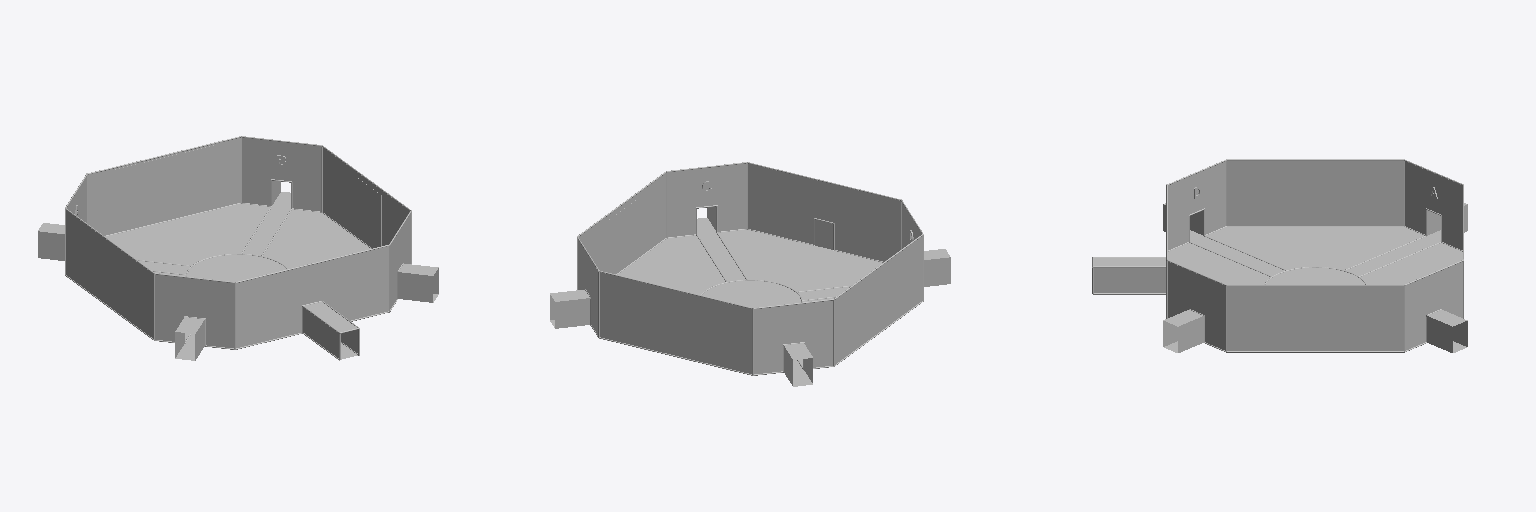
Rendered from NewPlatform3.obj.
3 renders of one model, left to right at view 1: azimuth 30°, elevation 25°; view 2: azimuth 150°, elevation 25°; view 3: azimuth 270°, elevation 25°, orthographic.
Parts seen in each view (by area): view 1: Plane.007, Plane.014, Plane.015, Plane.003, Plane.021, Plane.018, Plane.006, Plane.004, Plane.027, Plane.022, Plane.011; view 2: Plane.007, Plane.014, Plane.006, Plane.003, Plane.011, Plane.027, Plane.004, Plane.018, Plane.015, Plane.022, Plane.021; view 3: Plane.007, Plane.004, Plane.003, Plane.027, Plane.018, Plane.011, Plane.021, Plane.023, Plane.014.
Part boxes in pixels (left/top/right/bottom): Plane.007: left=106, top=204, right=370, bottom=344; Plane.014: left=236, top=246, right=388, bottom=359; Plane.015: left=112, top=145, right=215, bottom=231; Plane.003: left=66, top=210, right=153, bottom=338; Plane.021: left=155, top=275, right=234, bottom=360; Plane.018: left=242, top=138, right=320, bottom=211; Plane.006: left=88, top=138, right=240, bottom=235; Plane.004: left=323, top=148, right=409, bottom=248; Plane.027: left=390, top=213, right=438, bottom=308; Plane.022: left=352, top=174, right=381, bottom=246; Plane.011: left=38, top=177, right=86, bottom=260; Plane.007: left=618, top=230, right=881, bottom=370; Plane.014: left=748, top=164, right=900, bottom=261; Plane.006: left=600, top=272, right=751, bottom=373; Plane.003: left=835, top=236, right=922, bottom=364; Plane.011: left=754, top=301, right=832, bottom=386; Plane.027: left=667, top=163, right=746, bottom=237; Plane.004: left=579, top=173, right=665, bottom=273; Plane.018: left=550, top=240, right=597, bottom=334; Plane.015: left=624, top=280, right=727, bottom=359; Plane.022: left=607, top=200, right=636, bottom=272; Plane.021: left=902, top=203, right=950, bottom=286; Plane.007: left=1168, top=227, right=1462, bottom=284; Plane.004: left=1227, top=286, right=1403, bottom=350; Plane.003: left=1227, top=161, right=1403, bottom=225; Plane.027: left=1163, top=262, right=1225, bottom=352; Plane.018: left=1405, top=262, right=1467, bottom=352; Plane.011: left=1405, top=161, right=1467, bottom=249; Plane.021: left=1163, top=161, right=1225, bottom=249; Plane.023: left=1286, top=166, right=1344, bottom=219; Plane.014: left=1094, top=258, right=1165, bottom=292.
Bounding box in the file's own units: 20.54 × 5.05 × 25.32.